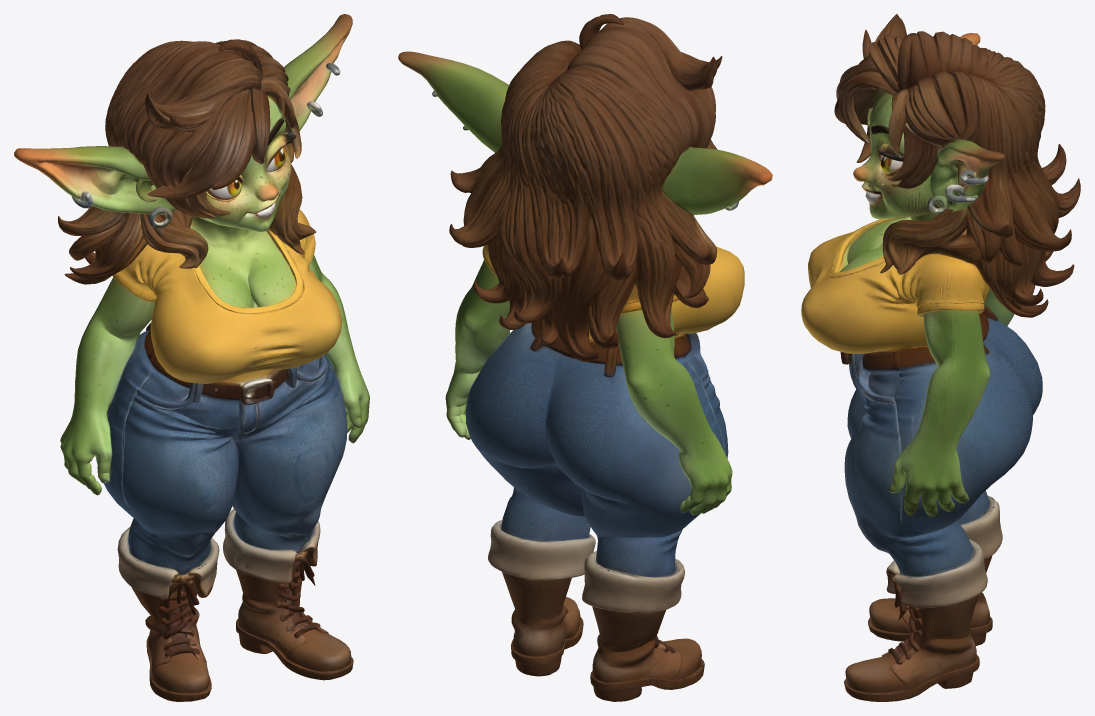
Rendered from oficina-3d-jade.glb.
3 renders of one model, left to right at view 1: azimuth 30°, elevation 25°; view 2: azimuth 150°, elevation 25°; view 3: azimuth 270°, elevation 25°, orthographic. The views are drawn at different scales.
Parts seen in each view (by area): view 1: model; view 2: model; view 3: model.
Part boxes in pixels (x1,y1,x2,y2): model: [14, 14, 369, 701]; model: [398, 14, 772, 701]; model: [801, 14, 1080, 701].
Size of the model in its own units: 1.09 by 1.9 by 0.7732.
1 material, 1 textured.
